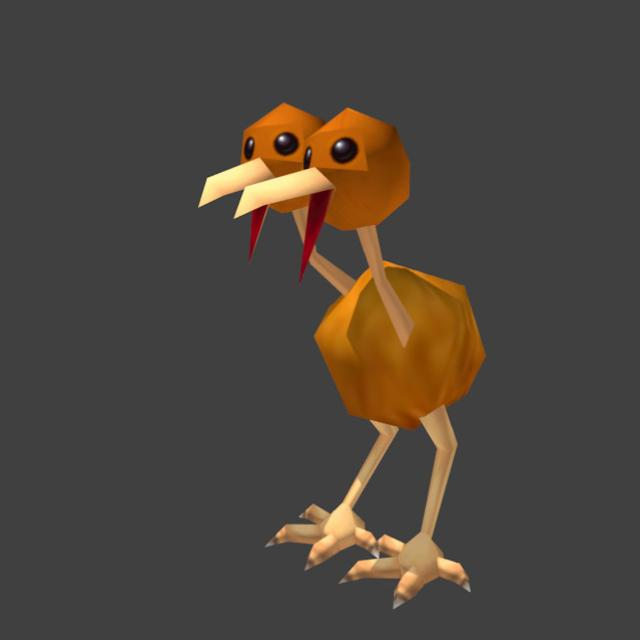Doduo: (188, 77, 491, 609)
